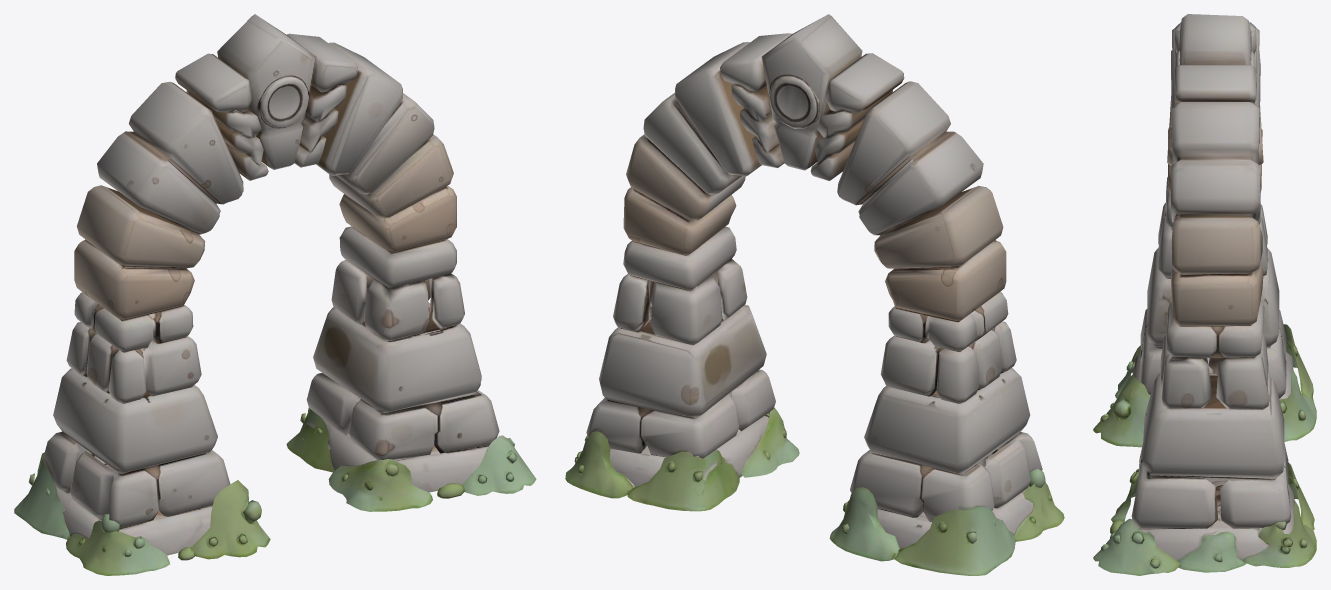
File: pro_arch_gateway.glb
The picture shows the model from 3 angles, left to right: view 1: azimuth 30°, elevation 25°; view 2: azimuth 150°, elevation 25°; view 3: azimuth 270°, elevation 25°; orthographic projection. The views are drawn at different scales.
Parts seen in each view (by area): view 1: tripo_node_46f13220-5dc8-4a61-91b7-54ca10bff631; view 2: tripo_node_46f13220-5dc8-4a61-91b7-54ca10bff631; view 3: tripo_node_46f13220-5dc8-4a61-91b7-54ca10bff631.
Part boxes in pixels (x1,y1,x2,y2): tripo_node_46f13220-5dc8-4a61-91b7-54ca10bff631: [14, 14, 536, 575]; tripo_node_46f13220-5dc8-4a61-91b7-54ca10bff631: [565, 14, 1064, 575]; tripo_node_46f13220-5dc8-4a61-91b7-54ca10bff631: [1093, 14, 1316, 575].
Bounding box in the file's own units: 0.9707 × 0.998 × 0.4434.
1 material, 1 textured.
